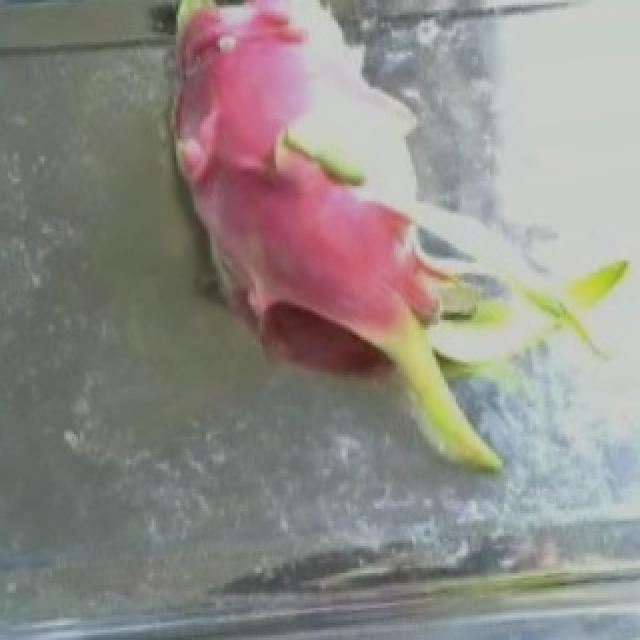fruit: (182, 70, 630, 491)
